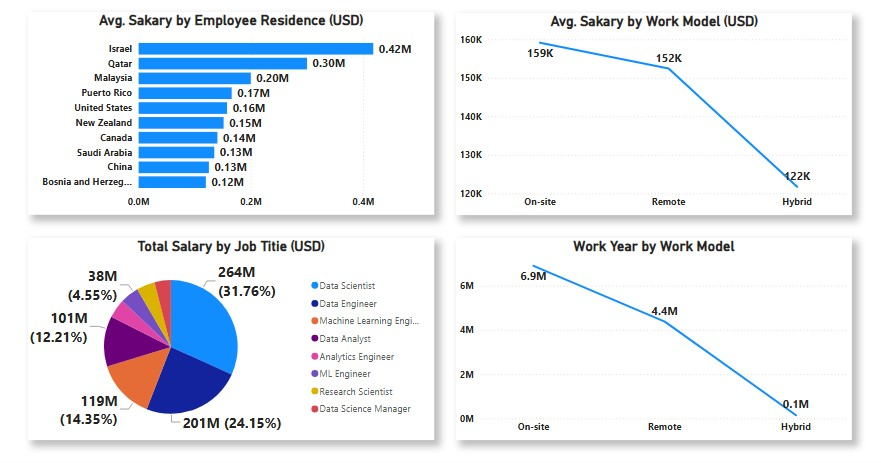

What the dashboard file says about the page in this screenshot:
{"tool":"powerbi","page":{"name":"Page 3","canvas":[1280,720],"ordinal":2},"visuals":[{"type":"clusteredBarChart","title":"Avg. Sakary by Employee Residence (USD)","fields":{"Category":["Ubong_Dataset_1.employee_residence"],"Y":["Ubong_Dataset_1.(USD)Avg Salary (USD)"]},"box":[43.7,35.3,584.6,292.3],"z":0},{"type":"lineChart","title":"Avg. Sakary by Work Model (USD)","fields":{"Y":["Ubong_Dataset_1.(USD)Avg Salary (USD)"],"Category":["Ubong_Dataset_1.work_models"]},"box":[659.5,36,570.2,290.9],"z":1000},{"type":"pieChart","title":"Total Salary by Job Titie (USD)","fields":{"Y":["Sum(Ubong_Dataset_1.salary)"],"Category":["Ubong_Dataset_1.job_title"]},"box":[43.7,359.5,584.6,290.6],"z":2000},{"type":"lineChart","title":"Work Year by Work Model ","fields":{"Category":["Ubong_Dataset_1.work_models"],"Y":["Sum(Ubong_Dataset_1.work_year)"]},"box":[659.5,360,570.2,290.9],"z":3000}]}

Visuals, with their boxes on the page's 1280x720 design canvas (x1, y1, x2, y2). These are canvas units, not pixel positions in the 881x463 screenshot, which may show the page scaled, cropped or inside an application window:
"Avg. Sakary by Employee Residence (USD)" clusteredBarChart: locate(44, 35, 628, 328)
"Avg. Sakary by Work Model (USD)" lineChart: locate(660, 36, 1230, 327)
"Total Salary by Job Titie (USD)" pieChart: locate(44, 360, 628, 650)
"Work Year by Work Model " lineChart: locate(660, 360, 1230, 651)
